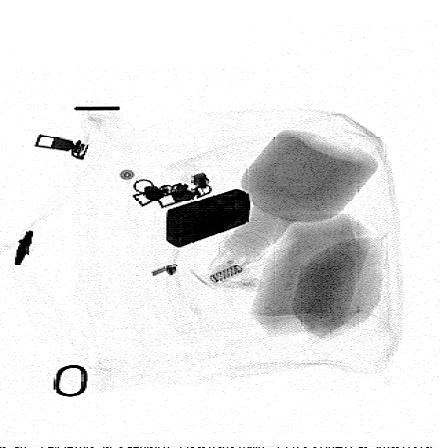Lighter: (164, 187, 252, 248)
